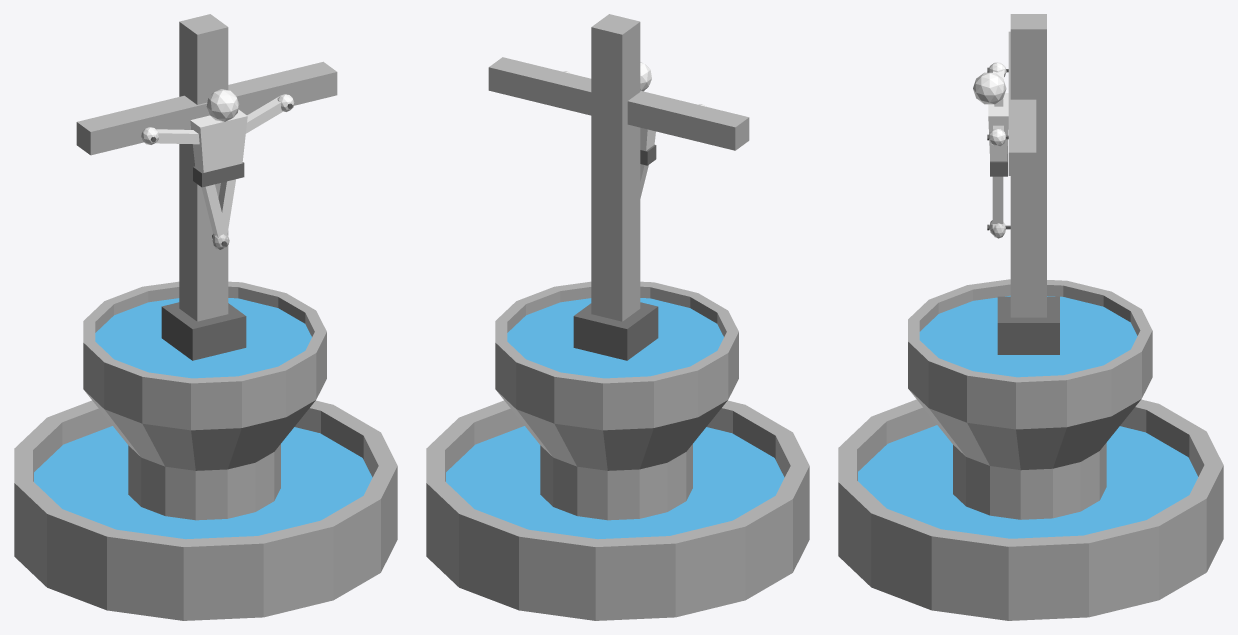
File: FuenteCruz.fbx
3 renders of one model, left to right at view 1: azimuth 30°, elevation 25°; view 2: azimuth 150°, elevation 25°; view 3: azimuth 270°, elevation 25°, orthographic.
Parts seen in each view (by area): view 1: Cylinder, Cylinder.001, Cylinder.005, Cube.001, Cylinder.006, Cube.002, Cube, Cube.004, Icosphere, Cube.005, Cube.007, Cube.006 (+2 smaller); view 2: Cylinder, Cylinder.001, Cylinder.005, Cube.001, Cylinder.006, Cube.002, Cube; view 3: Cylinder, Cylinder.001, Cylinder.005, Cylinder.006, Cube.001, Cube, Cube.002, Cube.004, Icosphere, Cube.007.
Boxes of the visible parts, <box> form: Cylinder: <box>14,400,397,620</box>; Cylinder.001: <box>83,281,326,520</box>; Cylinder.005: <box>34,426,372,539</box>; Cube.001: <box>179,14,228,321</box>; Cylinder.006: <box>95,298,311,378</box>; Cube.002: <box>76,61,337,155</box>; Cube: <box>161,302,246,360</box>; Cube.004: <box>190,109,247,172</box>; Icosphere: <box>206,89,239,121</box>; Cube.005: <box>193,162,244,187</box>; Cube.007: <box>212,179,235,238</box>; Cube.006: <box>201,184,228,238</box>; Cylinder: <box>426,400,809,620</box>; Cylinder.001: <box>495,281,738,520</box>; Cylinder.005: <box>446,426,784,539</box>; Cube.001: <box>591,14,640,321</box>; Cylinder.006: <box>507,298,723,378</box>; Cube.002: <box>488,57,749,150</box>; Cube: <box>573,302,658,360</box>; Cylinder: <box>838,399,1223,620</box>; Cylinder.001: <box>908,279,1152,519</box>; Cylinder.005: <box>858,425,1198,538</box>; Cylinder.006: <box>919,295,1137,377</box>; Cube.001: <box>1010,14,1046,317</box>; Cube: <box>997,296,1059,354</box>; Cube.002: <box>1008,31,1036,175</box>; Cube.004: <box>988,93,1008,161</box>; Icosphere: <box>973,72,1006,104</box>; Cube.007: <box>992,176,1003,223</box>.
Bounding box in the file's own units: 199 × 293 × 198.
